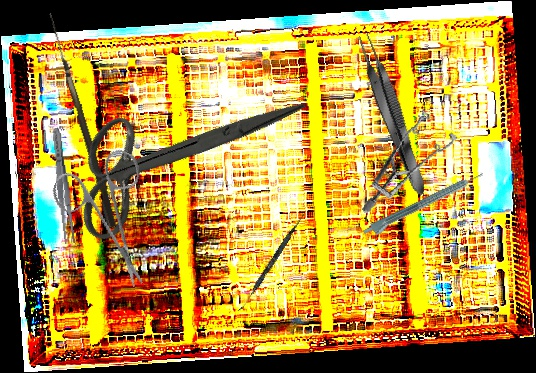Dressing Forceps: (48, 127, 78, 245)
Handpiece: (361, 169, 488, 242)
Hook Surgical: (39, 12, 121, 229)
Iris Scissors: (46, 15, 308, 295), (30, 131, 187, 290)
Spatula Surgical: (237, 211, 306, 315)
Speculum: (340, 103, 472, 214)
Tissue Forceps: (351, 31, 433, 199)
